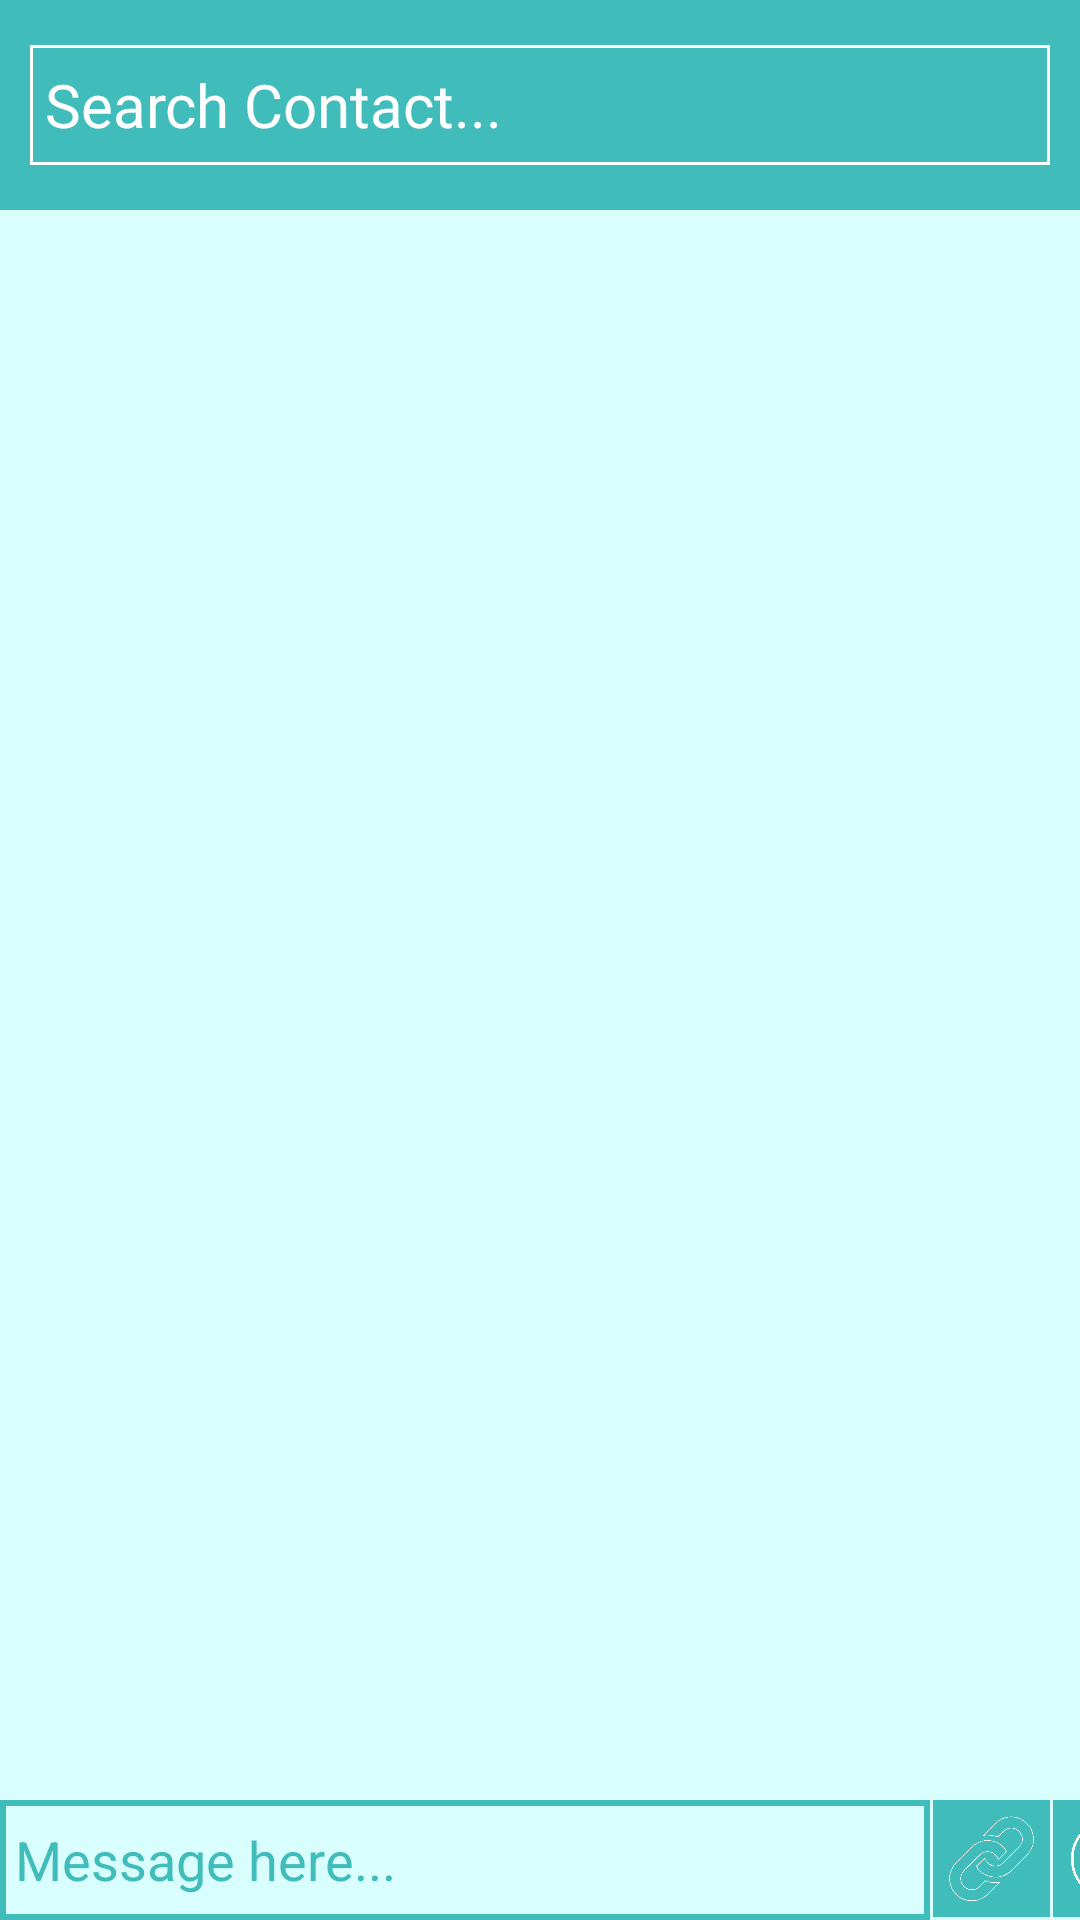

Icons on this 1080×1920 Android screen, each with the point to tap as [x,y]:
link: [991,1858]
